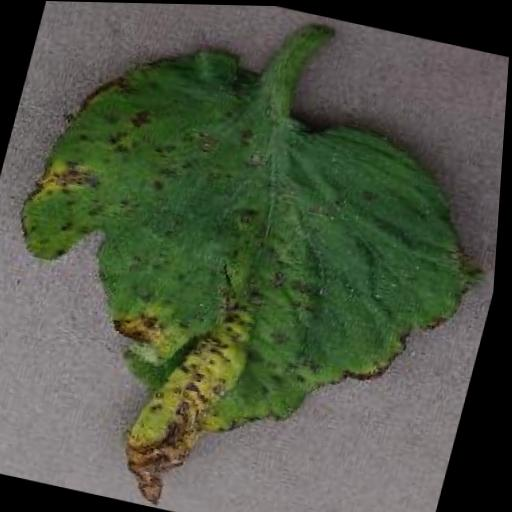Bacterial Spot: (0, 8, 512, 512)
